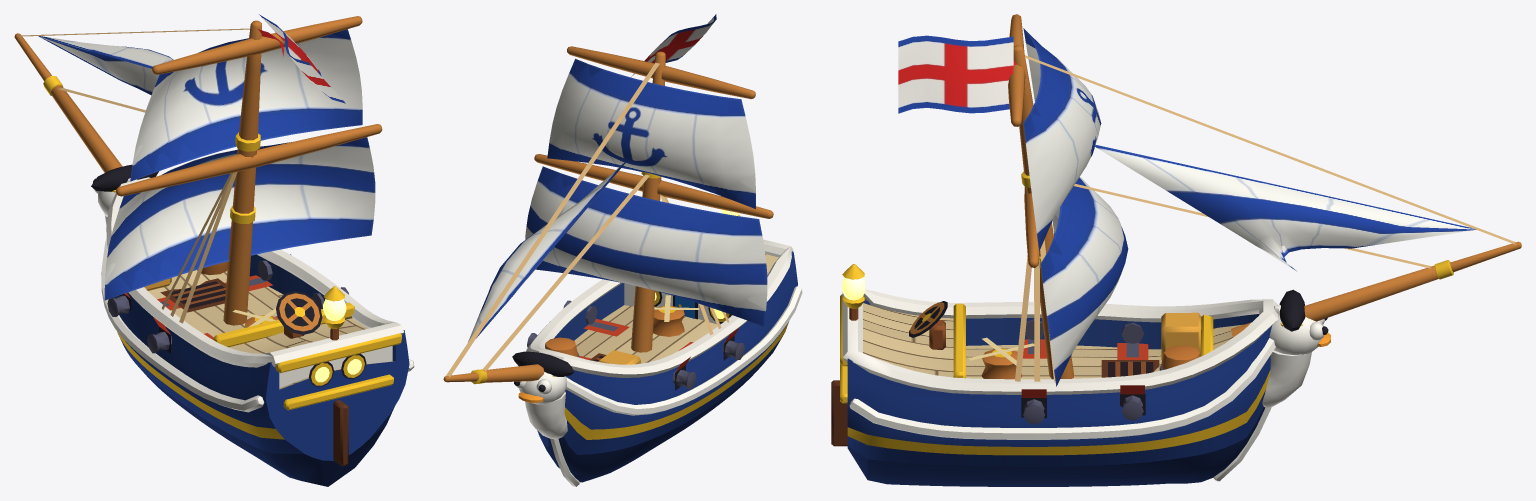
File: navy_sloop.glb
The picture shows the model from 3 angles, left to right: view 1: azimuth 30°, elevation 25°; view 2: azimuth 150°, elevation 25°; view 3: azimuth 270°, elevation 25°; orthographic projection. The views are drawn at different scales.
Visible parts, largest first — view 1: Hull, Sail0_0, Sail0_1, Rigging, Jib, Guns0, Flag; view 2: Hull, Sail0_0, Sail0_1, Rigging, Jib, Guns0, Flag; view 3: Hull, Jib, Rigging, Sail0_0, Sail0_1, Flag, Guns0.
Part boxes in pixels (left/top/right/bottom): Hull: left=91, top=164, right=414, bottom=486; Sail0_0: left=104, top=137, right=375, bottom=300; Sail0_1: left=130, top=29, right=362, bottom=181; Rigging: left=14, top=16, right=382, bottom=325; Jib: left=38, top=36, right=173, bottom=95; Guns0: left=107, top=254, right=348, bottom=353; Flag: left=259, top=14, right=345, bottom=103; Hull: left=512, top=196, right=802, bottom=486; Sail0_0: left=525, top=166, right=767, bottom=326; Sail0_1: left=547, top=59, right=755, bottom=208; Rigging: left=443, top=41, right=773, bottom=384; Jib: left=468, top=159, right=628, bottom=341; Guns0: left=527, top=300, right=744, bottom=389; Flag: left=631, top=14, right=716, bottom=76; Hull: left=831, top=264, right=1330, bottom=486; Jib: left=1095, top=145, right=1476, bottom=270; Rigging: left=1008, top=14, right=1521, bottom=381; Sail0_0: left=1040, top=177, right=1128, bottom=386; Sail0_1: left=1023, top=28, right=1101, bottom=251; Flag: left=898, top=35, right=1013, bottom=113; Guns0: left=1018, top=319, right=1148, bottom=424.
Bounding box in the file's own units: 1.19 × 1.8 × 2.51.
Materials: 9 (4 with a texture image).
